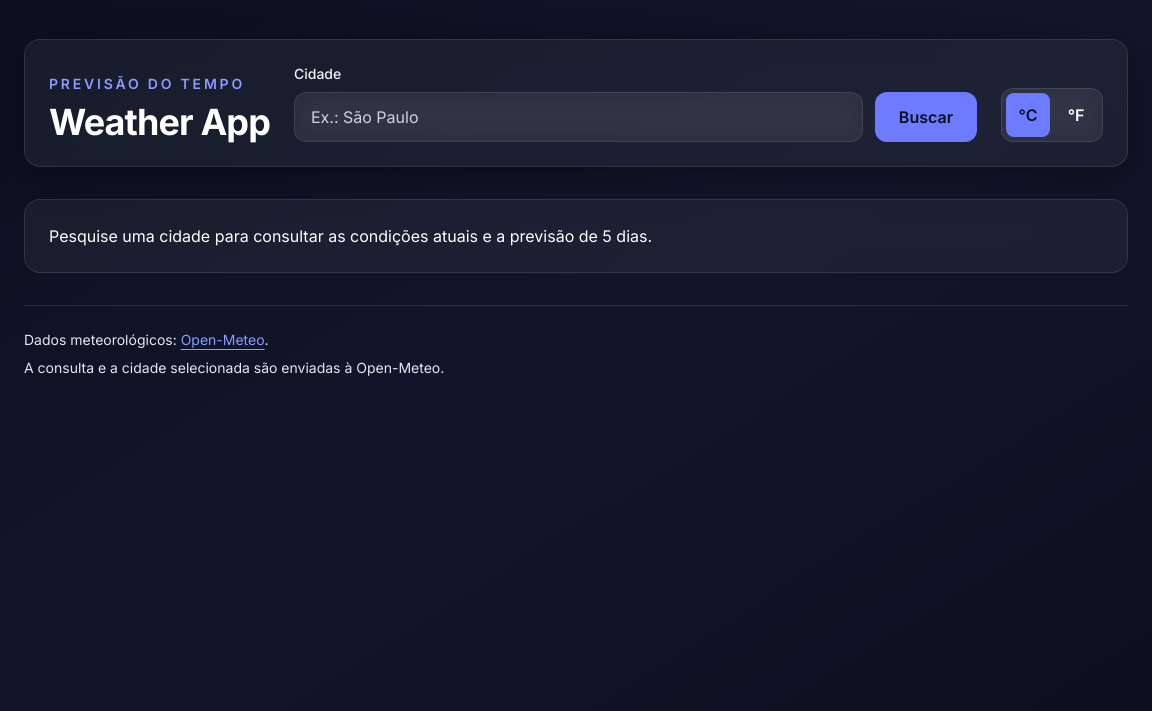
Test: App integrado aos serviços via useWeather › converte painel e todos os cards a partir do Celsius original sem mutações nem requests extras
Type "São" into the search field labelled "Cidade" at (578, 117), box [294, 92, 863, 142]
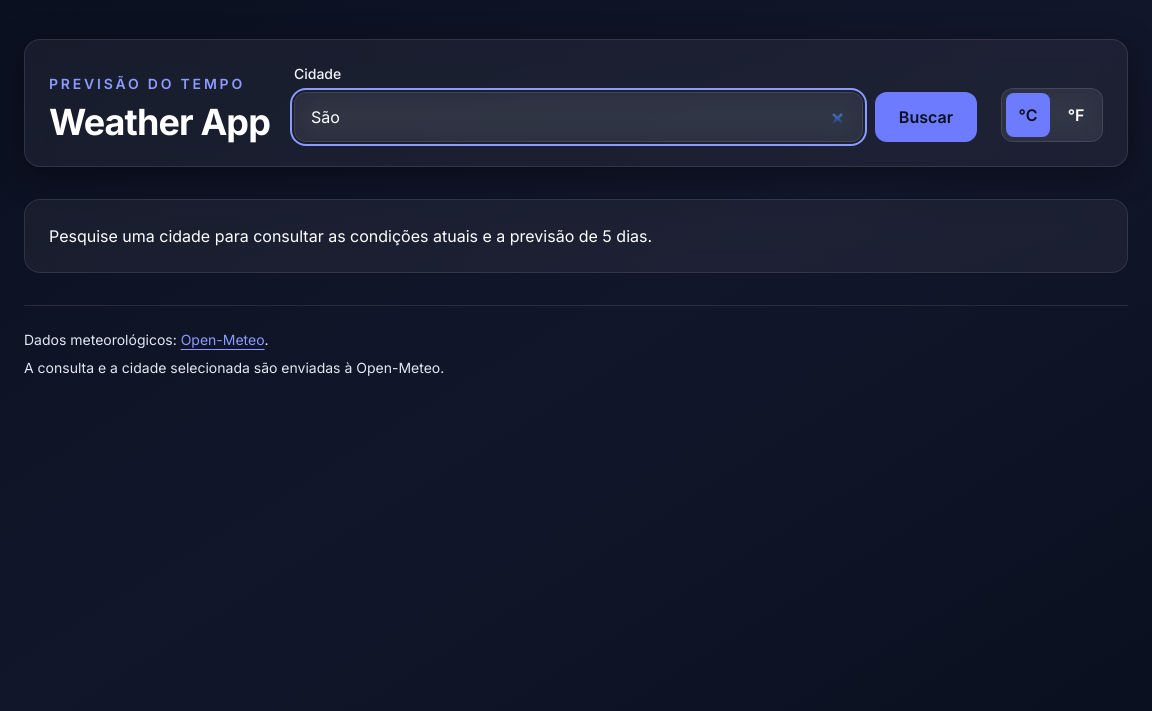
Click the button "Buscar" at (926, 117), box [875, 92, 977, 142]
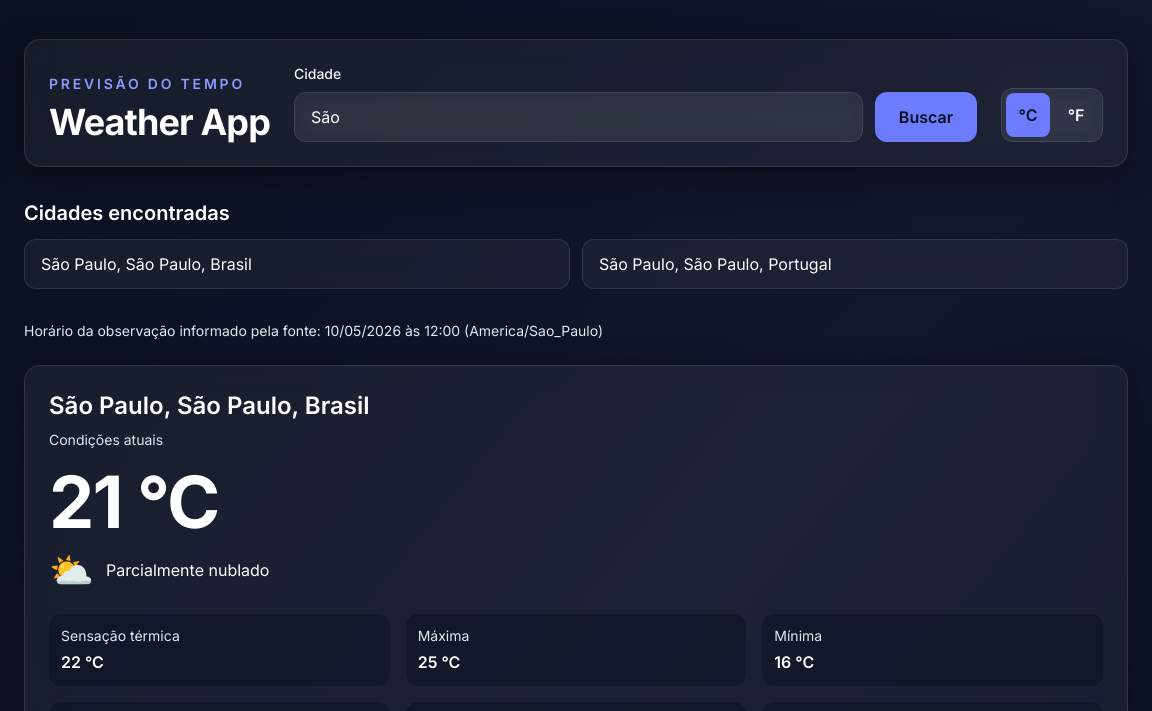
Expected: the heading "São Paulo, São Paulo, Brasil" is shown, [49, 391, 370, 420]
Click the button "°F" at (1076, 115), box [1054, 93, 1098, 137]
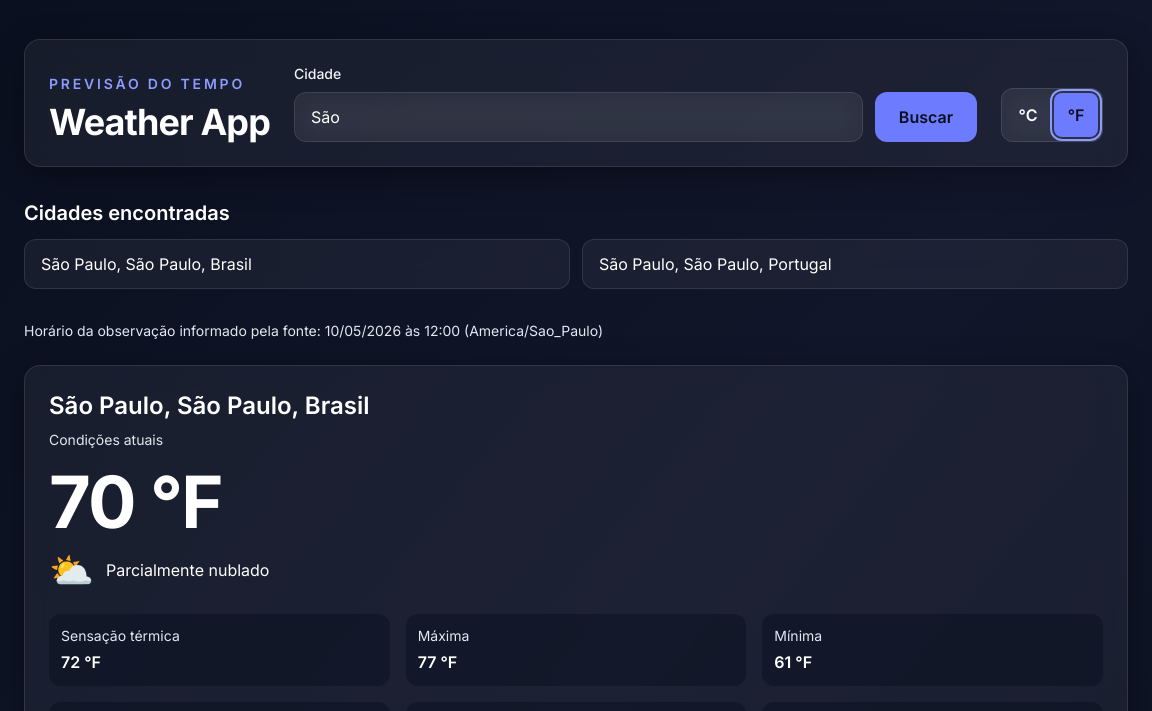
Expected: the heading named "Temperatura atual: 70 °F" is shown, [49, 458, 222, 545]
Expected: the text "72 °F" is shown, [61, 652, 101, 672]
Expected: the text "77 °F" is shown, [418, 652, 457, 672]
Click the button "°C" at (1028, 115), box [1006, 93, 1050, 137]
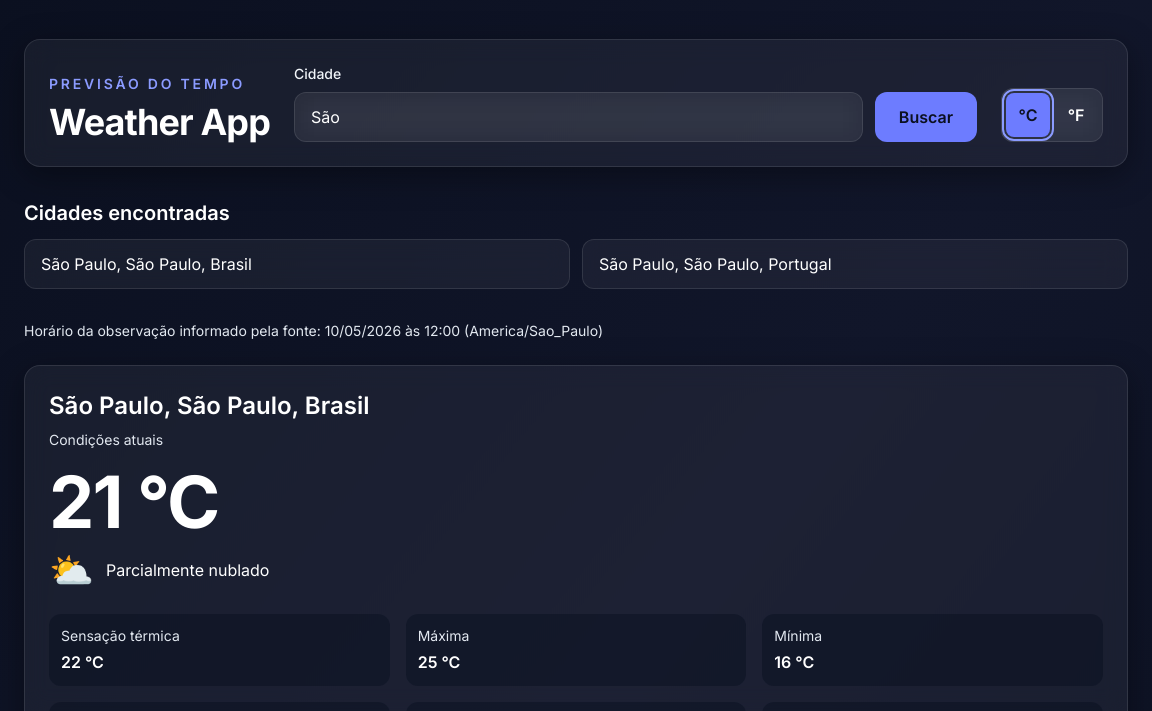
Expected: the heading named "Temperatura atual: 21 °C" is shown, [49, 458, 218, 545]
Click the button "°F" at (1076, 115), box [1054, 93, 1098, 137]
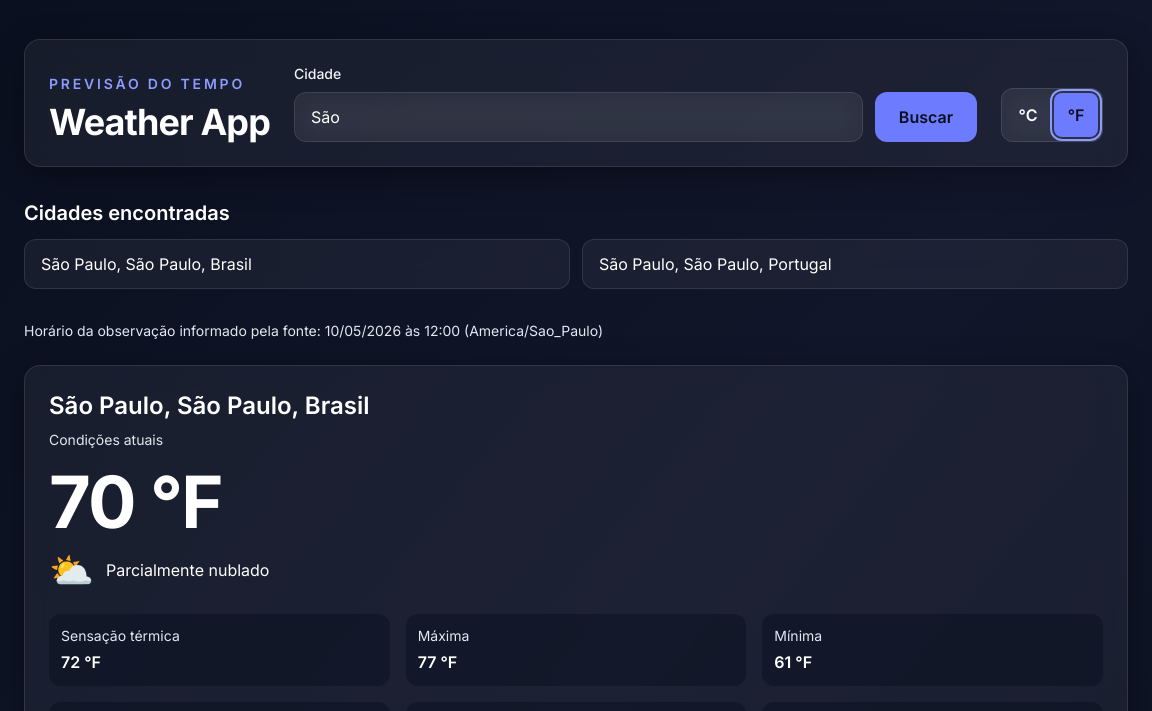
Expected: the heading named "Temperatura atual: 70 °F" is shown, [49, 458, 222, 545]
Expected: the text "72 °F" is shown, [61, 652, 101, 672]
Expected: the text "77 °F" is shown, [418, 652, 457, 672]
Click the button "°C" at (1028, 115), box [1006, 93, 1050, 137]
(page scrolled)
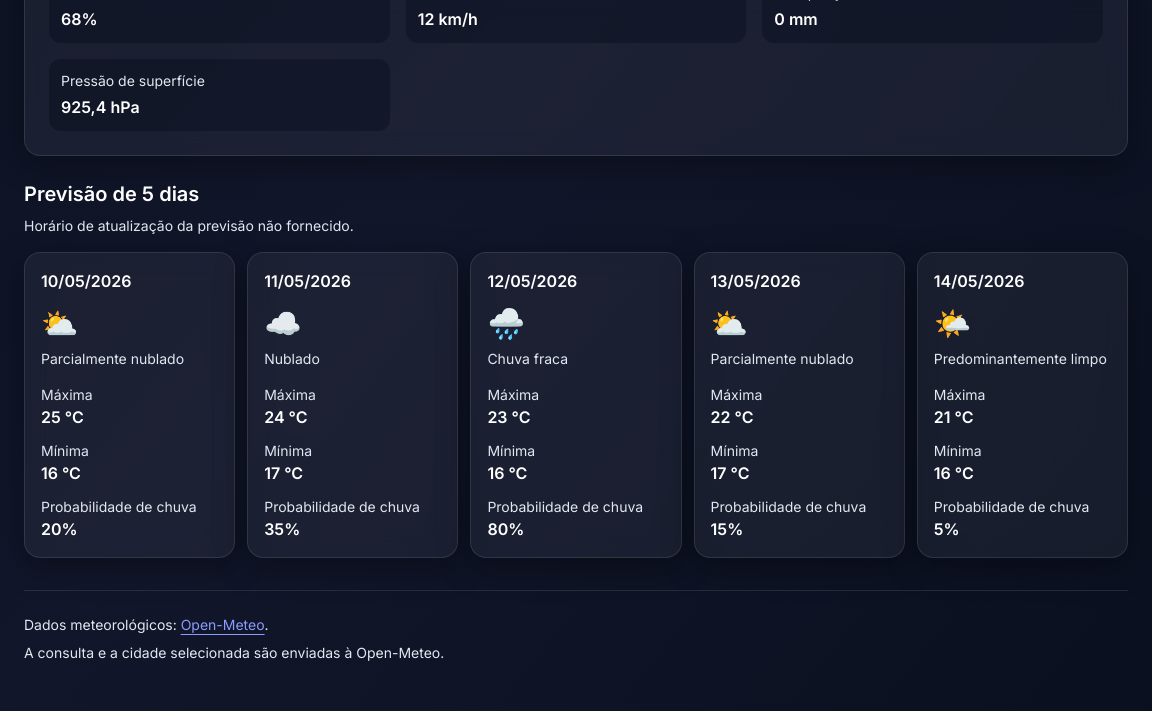
Expected: the text "25 °C" is shown, [41, 407, 84, 427]
Expected: the 1st text "16 °C" is shown, [41, 463, 81, 483]
Expected: the text "23 °C" is shown, [487, 407, 530, 427]
